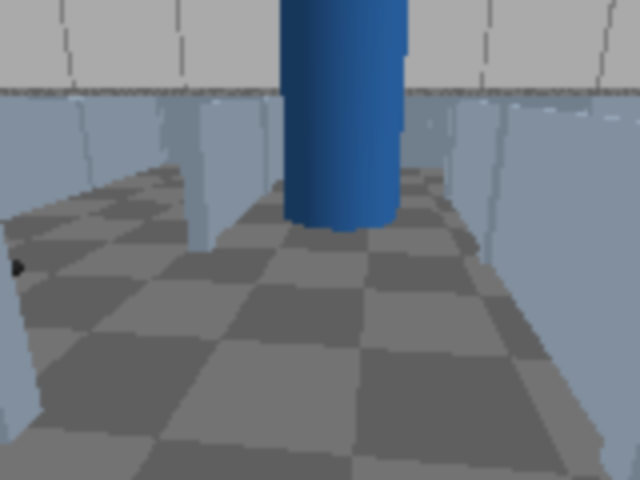puck: (0, 256, 29, 281)
